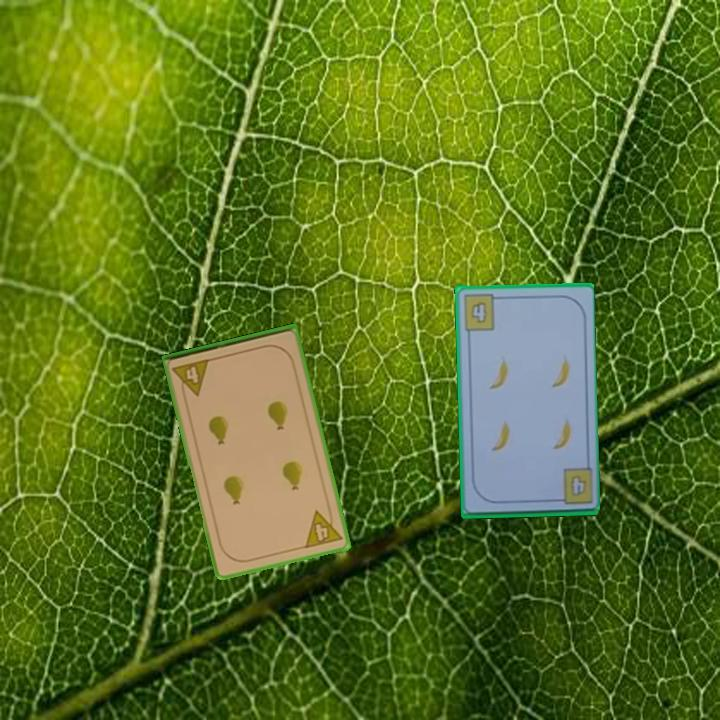4b: (459, 291, 503, 334), (567, 471, 589, 499)
4p: (301, 504, 345, 551), (169, 355, 213, 401)
